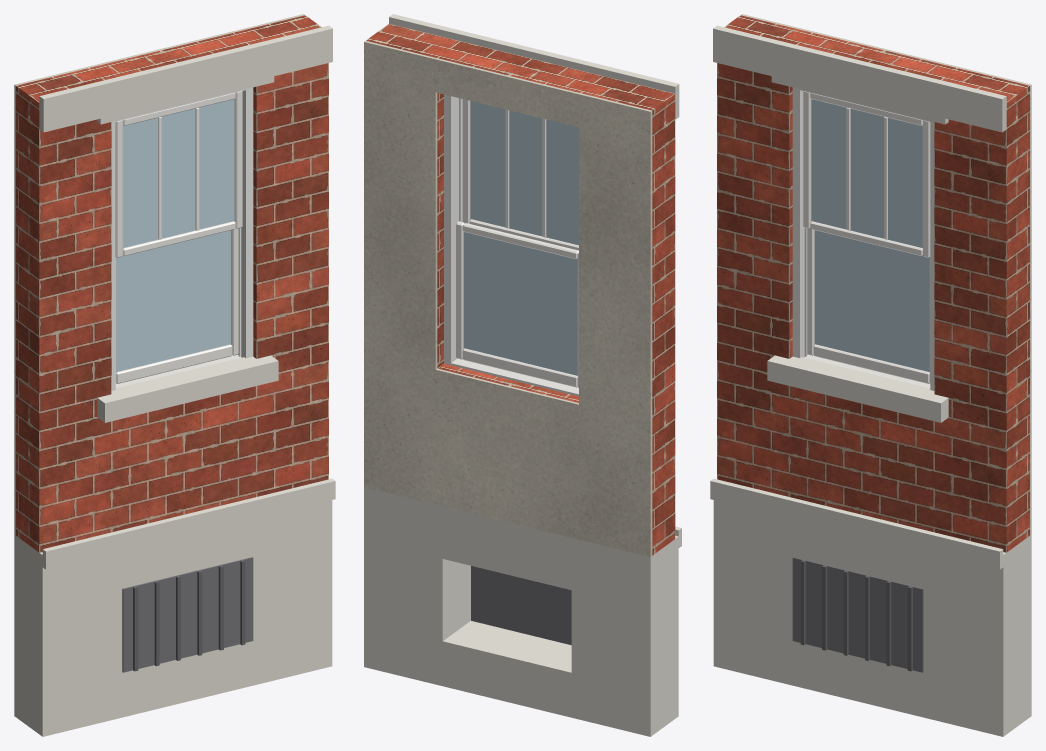
The model's file is wall_a0_window.glb.
3 views of the same model, side by side, from view 1: azimuth 30°, elevation 25°; view 2: azimuth 150°, elevation 25°; view 3: azimuth 330°, elevation 25° (orthographic).
Parts seen in each view (by area): view 1: wall_a0_window_brick, wall_a0_window_lime, wall_a0_window_glass, wall_a0_window_dark, wall_a0_window_sash, wall_a0_window_frame, wall_a0_window_iron, wall_a0_window_plaster, wall_a0_window_trim; view 2: wall_a0_window_plaster, wall_a0_window_lime, wall_a0_window_glass, wall_a0_window_brick, wall_a0_window_sash, wall_a0_window_dark, wall_a0_window_frame, wall_a0_window_trim; view 3: wall_a0_window_brick, wall_a0_window_lime, wall_a0_window_glass, wall_a0_window_dark, wall_a0_window_sash, wall_a0_window_frame, wall_a0_window_iron, wall_a0_window_plaster, wall_a0_window_trim.
Boxes of the visible parts, x1=… form: wall_a0_window_brick: x1=16, y1=15, x2=328, y2=552; wall_a0_window_lime: x1=14, y1=25, x2=335, y2=736; wall_a0_window_glass: x1=116, y1=99, x2=234, y2=371; wall_a0_window_dark: x1=122, y1=557, x2=253, y2=672; wall_a0_window_sash: x1=115, y1=91, x2=242, y2=383; wall_a0_window_frame: x1=111, y1=87, x2=253, y2=390; wall_a0_window_iron: x1=133, y1=560, x2=245, y2=671; wall_a0_window_plaster: x1=14, y1=14, x2=304, y2=535; wall_a0_window_trim: x1=115, y1=354, x2=241, y2=388; wall_a0_window_plaster: x1=364, y1=41, x2=652, y2=556; wall_a0_window_lime: x1=364, y1=14, x2=681, y2=736; wall_a0_window_glass: x1=463, y1=101, x2=578, y2=375; wall_a0_window_brick: x1=366, y1=24, x2=675, y2=555; wall_a0_window_sash: x1=456, y1=99, x2=578, y2=387; wall_a0_window_dark: x1=471, y1=566, x2=571, y2=645; wall_a0_window_frame: x1=444, y1=94, x2=462, y2=365; wall_a0_window_trim: x1=451, y1=358, x2=578, y2=396; wall_a0_window_brick: x1=717, y1=15, x2=1029, y2=552; wall_a0_window_lime: x1=710, y1=25, x2=1031, y2=736; wall_a0_window_glass: x1=811, y1=99, x2=929, y2=371; wall_a0_window_dark: x1=792, y1=557, x2=923, y2=672; wall_a0_window_sash: x1=803, y1=91, x2=930, y2=383; wall_a0_window_frame: x1=792, y1=87, x2=934, y2=390; wall_a0_window_iron: x1=800, y1=560, x2=912, y2=671; wall_a0_window_plaster: x1=741, y1=14, x2=1031, y2=535; wall_a0_window_trim: x1=804, y1=354, x2=930, y2=388.
Bounding box in the file's own units: 2 × 4.22 × 0.39.
9 materials, 2 textured.
